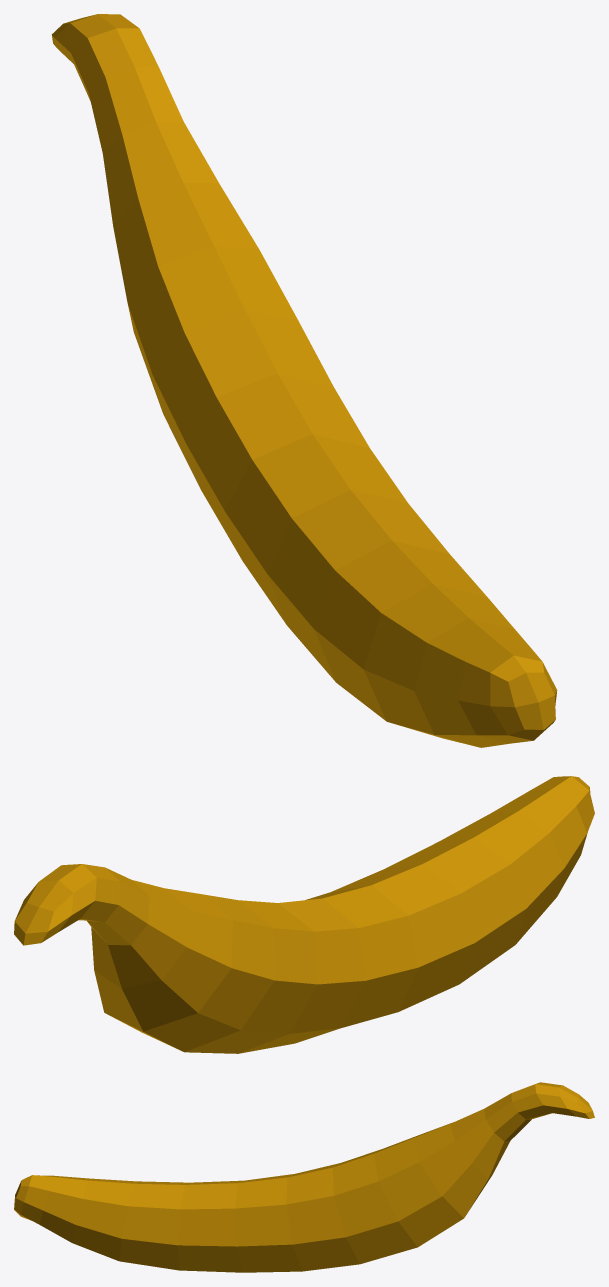
File: banana.obj
3 views of the same model, one above another, from view 1: azimuth 30°, elevation 25°; view 2: azimuth 150°, elevation 25°; view 3: azimuth 270°, elevation 25° (orthographic). The views are drawn at different scales.
Visible parts, largest first — view 1: Cube; view 2: Cube; view 3: Cube.
Part boxes in pixels (bbox=[...]): Cube: bbox=[51, 14, 557, 747]; Cube: bbox=[14, 776, 594, 1053]; Cube: bbox=[14, 1082, 594, 1272].
Size of the model in its own units: 0.9008 by 1.65 by 4.37.
